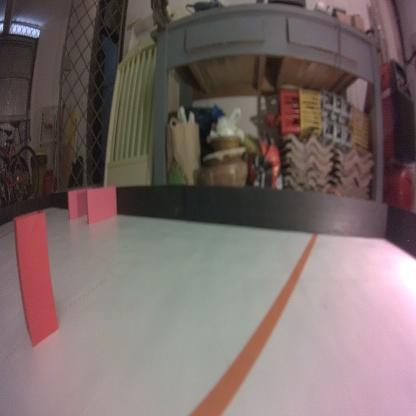magenta: (84, 185, 116, 227), (66, 185, 95, 219)
red: (12, 207, 61, 348)
